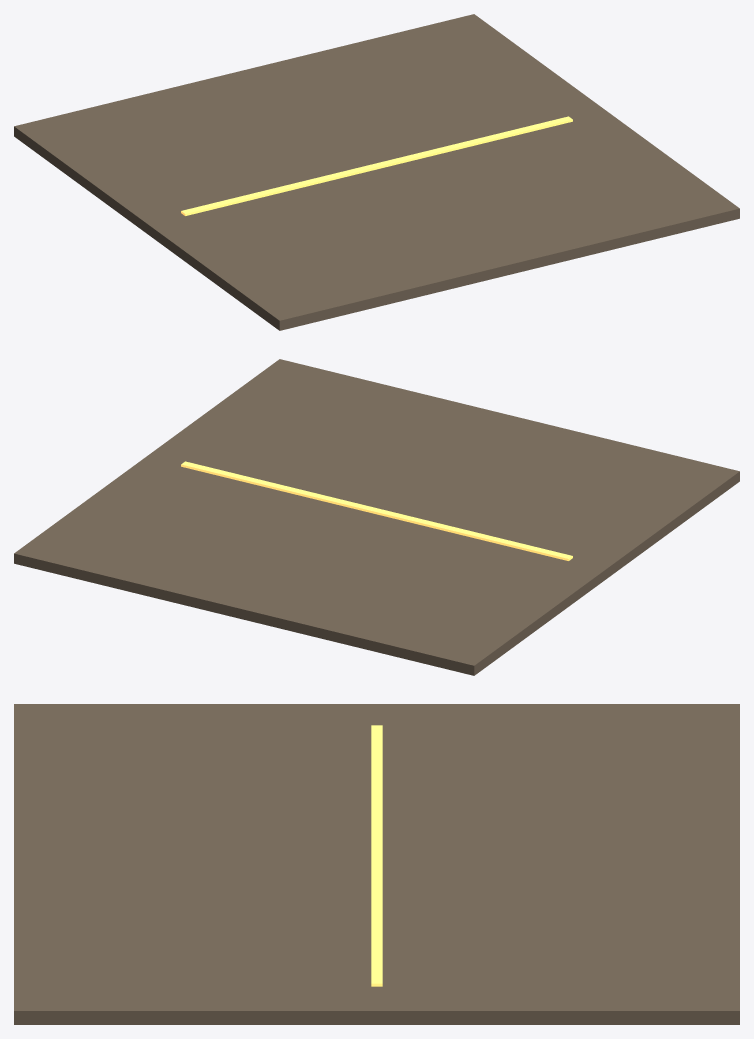
Rendered from refinery-floor-panel-lod2.glb.
3 renders of one model, top to bottom at view 1: azimuth 30°, elevation 25°; view 2: azimuth 150°, elevation 25°; view 3: azimuth 270°, elevation 25°, orthographic. The views are drawn at different scales.
Visible parts, largest first — view 1: refinery-floor-panel, refinery-floor-seam; view 2: refinery-floor-panel, refinery-floor-seam; view 3: refinery-floor-panel, refinery-floor-seam.
Part boxes in pixels (left/top/right/bottom): refinery-floor-panel: left=14, top=14, right=739, bottom=330; refinery-floor-seam: left=181, top=116, right=572, bottom=215; refinery-floor-panel: left=14, top=359, right=739, bottom=675; refinery-floor-seam: left=181, top=461, right=572, bottom=560; refinery-floor-panel: left=14, top=704, right=739, bottom=1024; refinery-floor-seam: left=371, top=725, right=382, bottom=986.
Size of the model in its own units: 3.8 by 0.0975 by 3.8.
